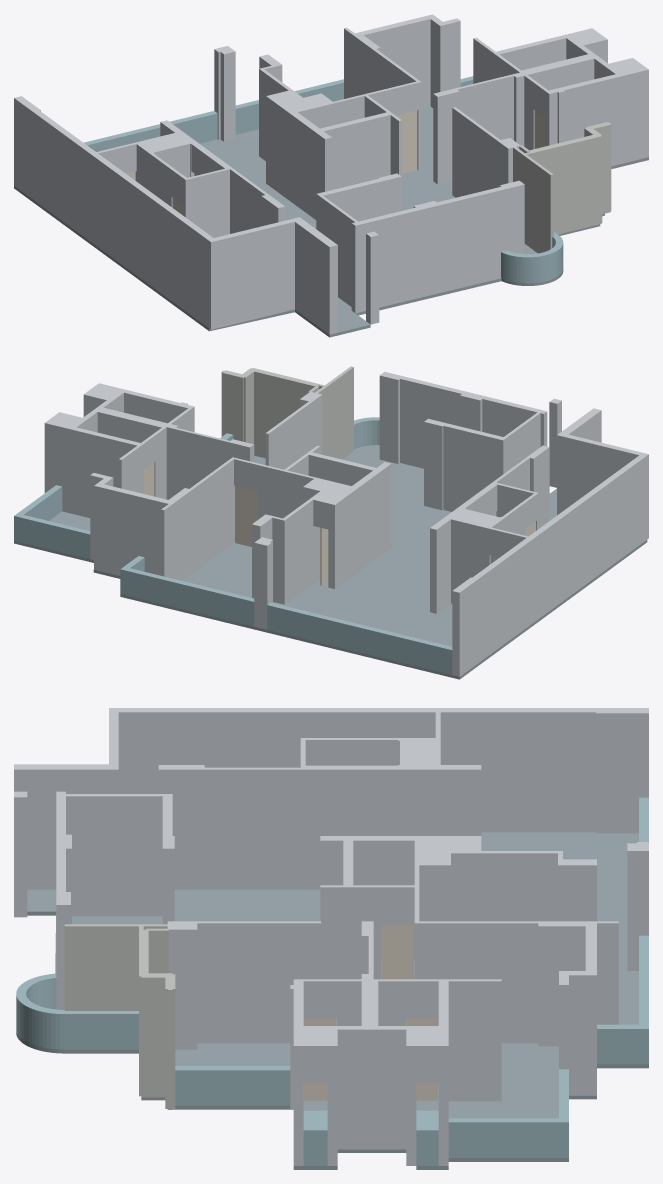
File: flat-cad.glb
The picture shows the model from 3 angles, top to bottom: view 1: azimuth 30°, elevation 25°; view 2: azimuth 150°, elevation 25°; view 3: azimuth 270°, elevation 25°; orthographic projection. The views are drawn at different scales.
Parts seen in each view (by area): view 1: cad-wall-11, cad-wall-13, cad-open-run-0, CAD traced floor outline, cad-wall-55, cad-wall-34, cad-wall-6, cad-wall-3, cad-wall-0, cad-wall-54, cad-wall-43, cad-wall-48 (+33 smaller); view 2: cad-wall-11, CAD traced floor outline, cad-open-run-0, cad-wall-13, cad-wall-48, cad-wall-6, cad-wall-24, cad-wall-30, cad-wall-29, cad-wall-4, cad-wall-34, cad-wall-7 (+38 smaller); view 3: cad-wall-11, CAD traced floor outline, cad-wall-0, cad-wall-54, cad-open-run-0, cad-wall-13, cad-wall-49, cad-wall-4, cad-wall-48, cad-wall-30, cad-wall-23, cad-wall-35 (+35 smaller).
Part boxes in pixels (<box>): cad-wall-11: <box>33,110,337,334</box>; cad-wall-13: <box>316,178,419,313</box>; cad-open-run-0: <box>513,122,611,253</box>; CAD traced floor outline: <box>14,106,648,337</box>; cad-wall-55: <box>545,67,648,166</box>; cad-wall-34: <box>437,186,504,292</box>; cad-wall-6: <box>359,14,460,108</box>; cad-wall-3: <box>322,104,402,207</box>; cad-wall-0: <box>184,142,267,237</box>; cad-wall-54: <box>452,107,499,197</box>; cad-wall-43: <box>456,74,513,140</box>; cad-wall-48: <box>473,28,595,83</box>; cad-wall-11: <box>472,408,648,662</box>; CAD traced floor outline: <box>14,445,647,679</box>; cad-open-run-0: <box>221,366,353,459</box>; cad-wall-13: <box>443,396,547,511</box>; cad-wall-48: <box>44,420,143,517</box>; cad-wall-6: <box>90,473,167,575</box>; cad-wall-24: <box>267,602,452,674</box>; cad-wall-30: <box>264,482,351,604</box>; cad-wall-29: <box>120,556,254,626</box>; cad-wall-4: <box>190,457,234,573</box>; cad-wall-34: <box>400,376,465,468</box>; cad-wall-7: <box>14,485,90,559</box>; cad-wall-11: <box>14,708,595,889</box>; CAD traced floor outline: <box>16,832,648,1169</box>; cad-wall-0: <box>204,738,398,889</box>; cad-wall-54: <box>197,921,320,1043</box>; cad-open-run-0: <box>64,924,175,1109</box>; cad-wall-13: <box>56,791,172,916</box>; cad-wall-49: <box>327,989,416,1165</box>; cad-wall-4: <box>414,921,538,1043</box>; cad-wall-48: <box>438,979,501,1165</box>; cad-wall-30: <box>414,840,562,921</box>; cad-wall-23: <box>596,708,648,833</box>; cad-wall-35: <box>16,973,138,1049</box>.
Bounding box in the file's own units: 18.4 × 3.15 × 14.62.
